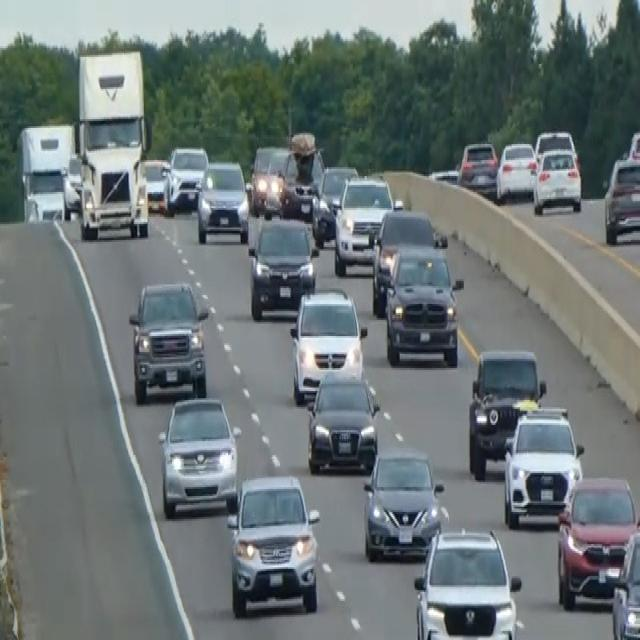car: (225, 471, 321, 617), (412, 524, 521, 638), (555, 473, 639, 610), (467, 345, 546, 478), (128, 277, 209, 403), (502, 404, 584, 528), (157, 393, 238, 517), (383, 242, 464, 366), (362, 444, 444, 562), (289, 284, 367, 404), (305, 364, 380, 473), (370, 205, 443, 316), (247, 213, 316, 320), (332, 172, 400, 276), (195, 156, 249, 244), (278, 130, 325, 218), (311, 164, 358, 247), (532, 144, 582, 215), (603, 153, 639, 245), (610, 526, 639, 638), (163, 142, 208, 214), (248, 142, 288, 214), (495, 138, 537, 202), (457, 137, 498, 194), (533, 126, 576, 164), (143, 156, 170, 212), (62, 149, 82, 217), (627, 126, 639, 162)
lorry: (74, 46, 152, 242)
